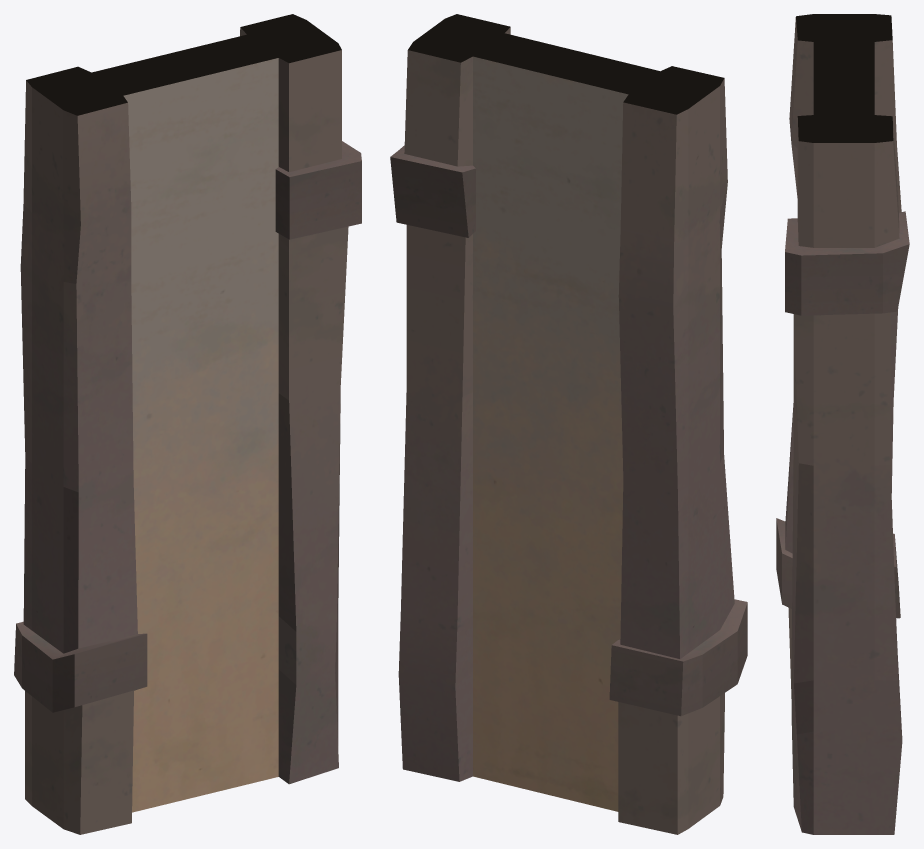
Rendered from Wall_1L_Bdr.fbx.
The picture shows the model from 3 angles, left to right: view 1: azimuth 30°, elevation 25°; view 2: azimuth 150°, elevation 25°; view 3: azimuth 270°, elevation 25°; orthographic projection. The views are drawn at different scales.
Parts seen in each view (by area): view 1: Wall_1L_Bdr; view 2: Wall_1L_Bdr; view 3: Wall_1L_Bdr.
Boxes of the visible parts, bbox=[...] form: Wall_1L_Bdr: bbox=[14, 14, 361, 834]; Wall_1L_Bdr: bbox=[390, 14, 747, 834]; Wall_1L_Bdr: bbox=[776, 14, 909, 834].
Bounding box in the file's own units: 222 × 500 × 87.4.
